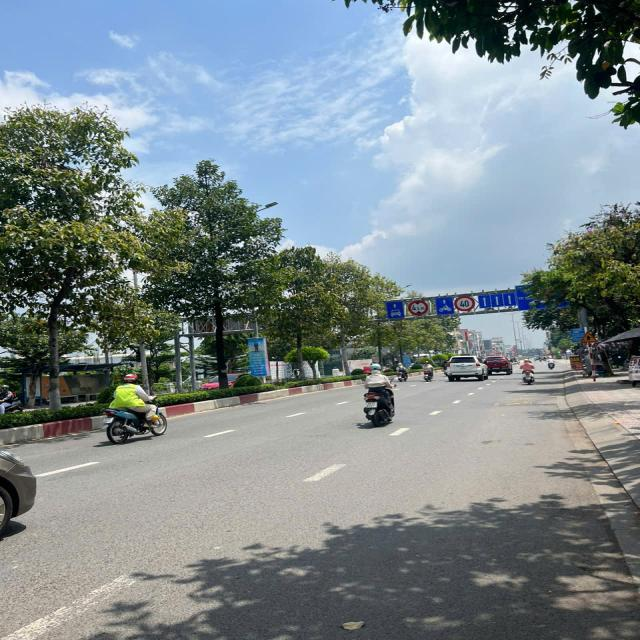car: (448, 356, 486, 382), (485, 355, 512, 376)
motobyte: (118, 380, 174, 439), (363, 366, 394, 427), (518, 360, 535, 386), (423, 361, 434, 382), (397, 365, 407, 381), (548, 358, 554, 371), (534, 356, 537, 362), (539, 356, 541, 362), (544, 356, 546, 361)
